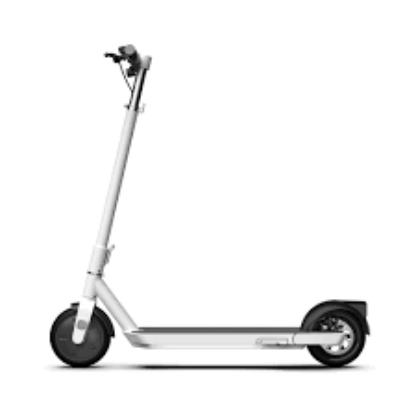bike: (48, 37, 374, 370)
